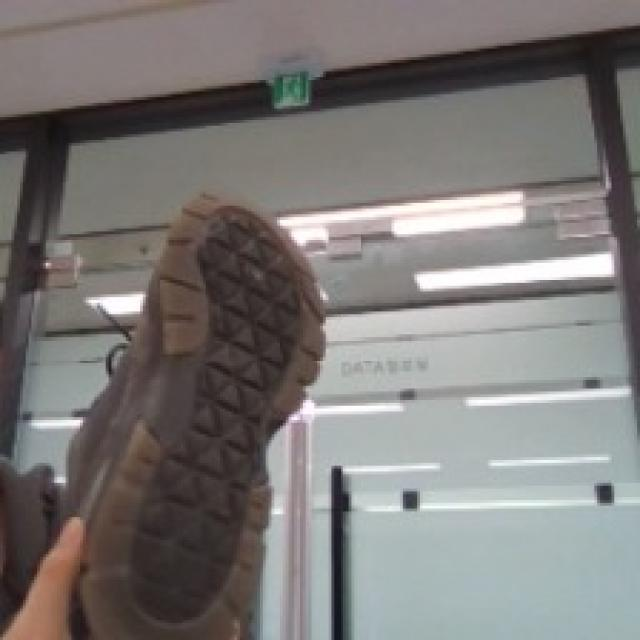shoe: (60, 191, 334, 640)
